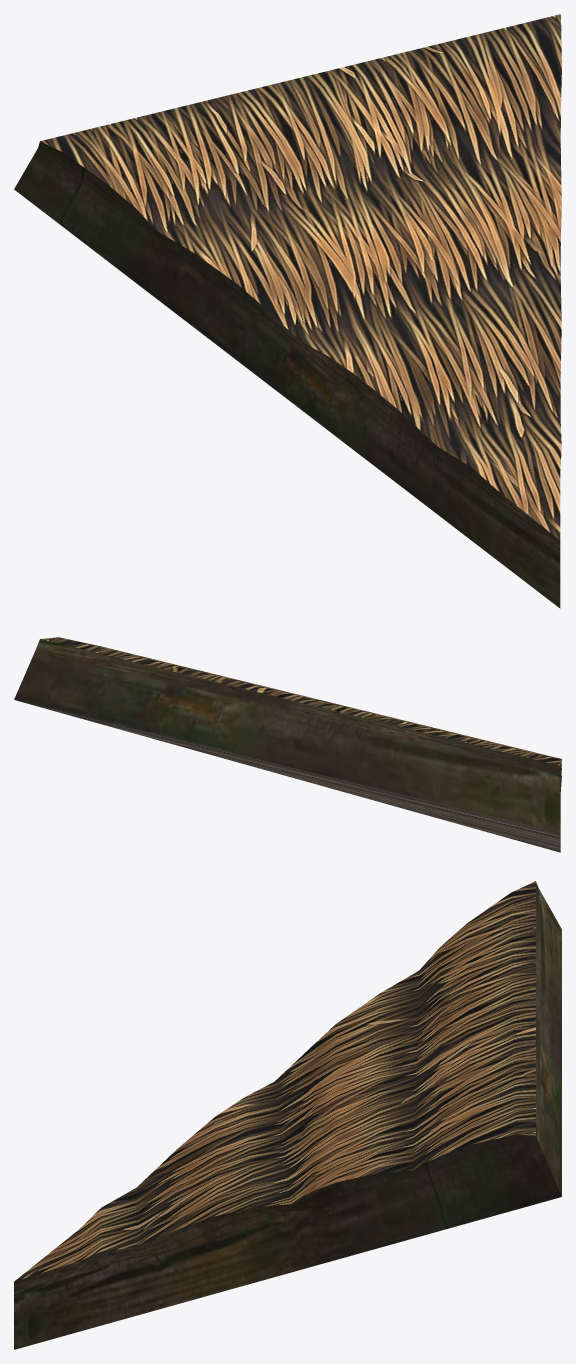
The picture shows the model from 3 angles, top to bottom: view 1: azimuth 30°, elevation 25°; view 2: azimuth 150°, elevation 25°; view 3: azimuth 270°, elevation 25°; orthographic projection.
Parts seen in each view (by area): view 1: SM_BB_T1_Extended_Roof_Triangle_Shallow_Large_LOD0; view 2: SM_BB_T1_Extended_Roof_Triangle_Shallow_Large_LOD0; view 3: SM_BB_T1_Extended_Roof_Triangle_Shallow_Large_LOD0.
Boxes of the visible parts, x1=… form: SM_BB_T1_Extended_Roof_Triangle_Shallow_Large_LOD0: x1=14, y1=14, x2=561, y2=608; SM_BB_T1_Extended_Roof_Triangle_Shallow_Large_LOD0: x1=14, y1=637, x2=561, y2=852; SM_BB_T1_Extended_Roof_Triangle_Shallow_Large_LOD0: x1=14, y1=881, x2=561, y2=1349.
Size of the model in its own units: 3.15 by 1.87 by 2.73.
3 materials, 3 textured.
